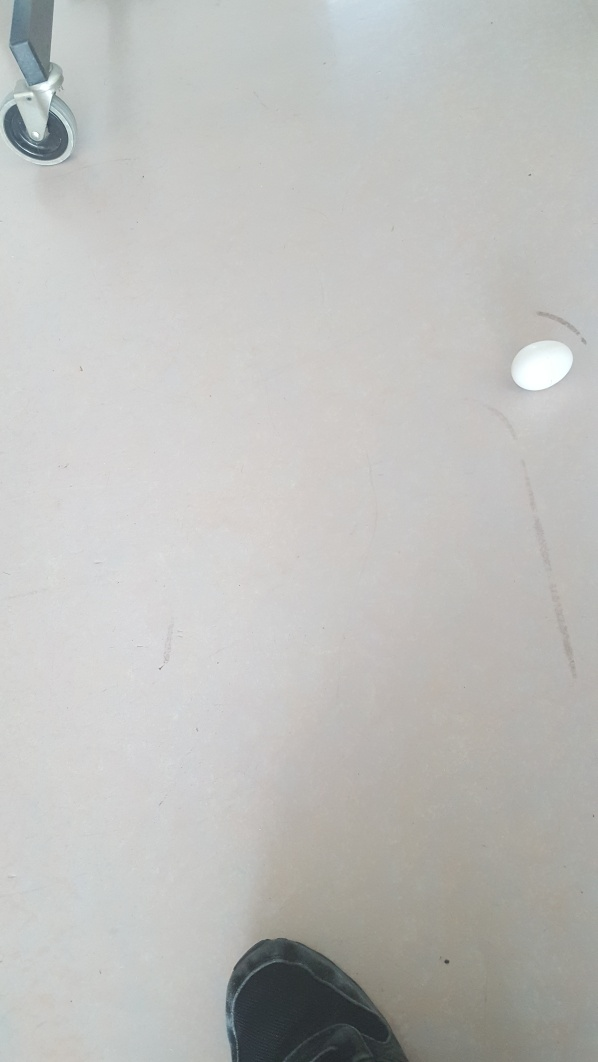egg: (510, 337, 577, 399)
